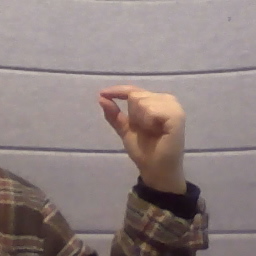S: (95, 82, 190, 171)
